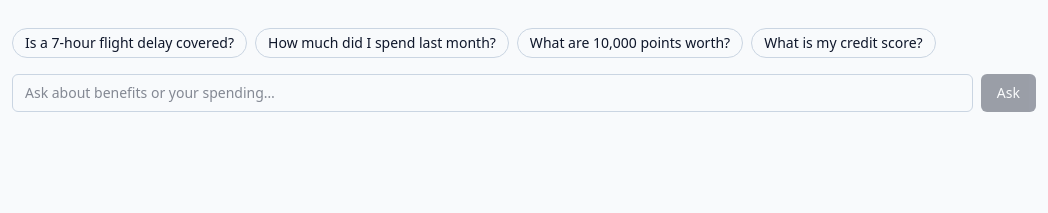
Test: ChatPanel › shows a clean error when the assistant is unavailable
Click the button "What are 10,000 points worth?" at (630, 43), box x1=517 y1=28 x2=743 y2=58
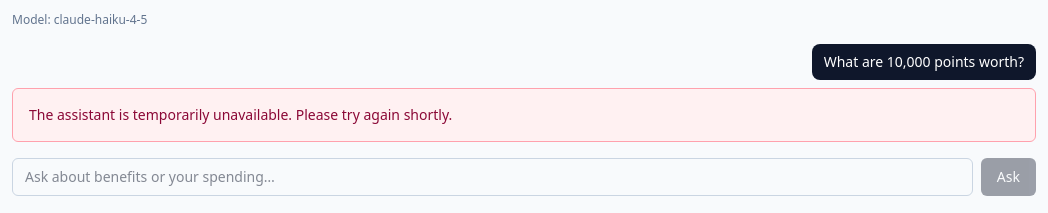
Check: the text "The assistant is temporarily unavailable. Please try again shortly." is shown, box x1=12 y1=88 x2=1036 y2=142
